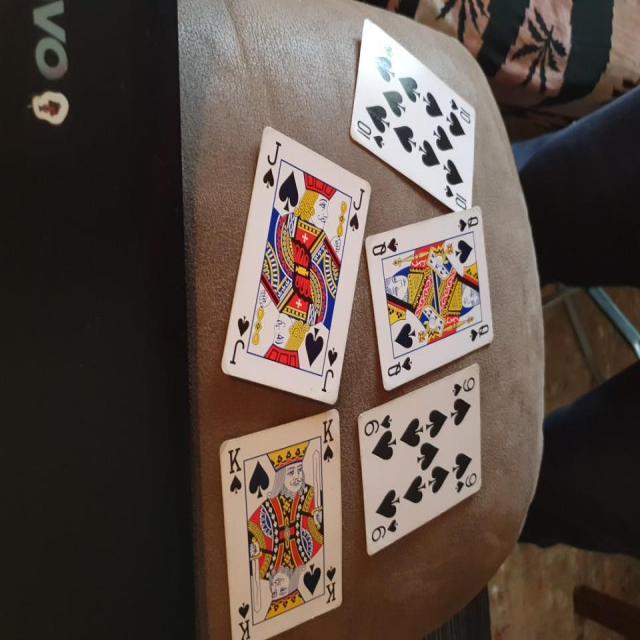10 Spades: (347, 14, 490, 225)
9 Spades: (356, 361, 490, 561)
J Spades: (217, 119, 372, 410)
K Spades: (215, 406, 345, 631)
Q Spades: (361, 209, 502, 393)
